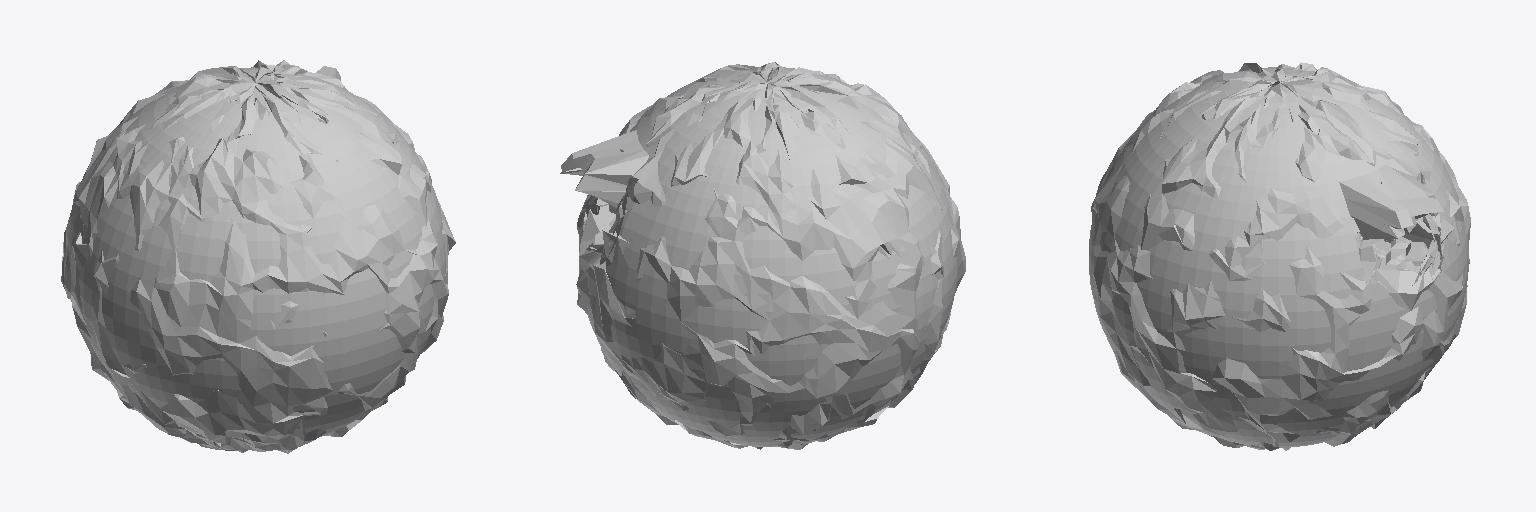
Rendered from caveplanet1.obj.
3 views of the same model, side by side, from view 1: azimuth 30°, elevation 25°; view 2: azimuth 150°, elevation 25°; view 3: azimuth 270°, elevation 25° (orthographic).
Visible parts, largest first — view 1: Sphere_1, Sphere; view 2: Sphere_1, Sphere, defaultobject, Disc_1; view 3: Sphere, Sphere_1, Disc_1, Plane, defaultobject.
Boxes of the visible parts, x1,y1,x2,y2 form: Sphere_1: [61, 60, 455, 453]; Sphere: [67, 64, 445, 442]; Sphere_1: [560, 62, 965, 449]; Sphere: [561, 67, 957, 446]; defaultobject: [563, 168, 627, 231]; Disc_1: [581, 149, 638, 257]; Sphere: [1089, 67, 1468, 447]; Sphere_1: [1091, 62, 1470, 450]; Disc_1: [1356, 170, 1453, 285]; Plane: [1372, 237, 1427, 272]; defaultobject: [1378, 213, 1441, 281].
Size of the model in its own units: 1711 by 1754 by 1692.